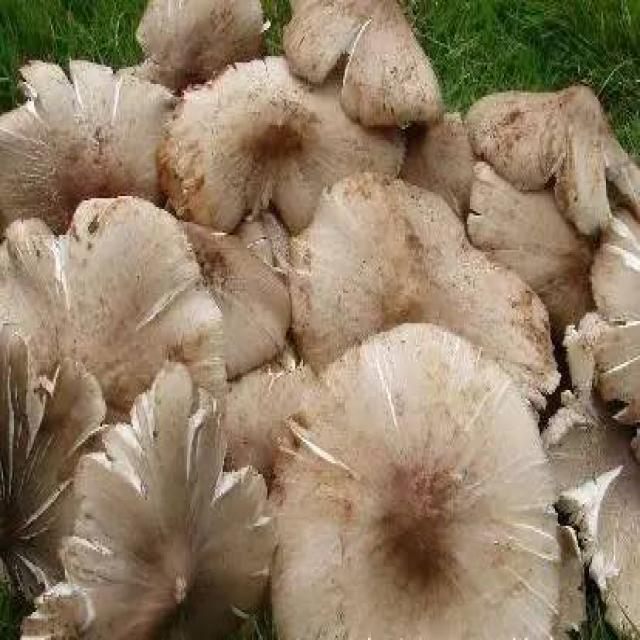Collybia albuminosa: (276, 325, 559, 640), (291, 176, 556, 404), (65, 362, 267, 640), (0, 196, 229, 418), (0, 63, 172, 198), (281, 1, 442, 130), (134, 0, 266, 86)
